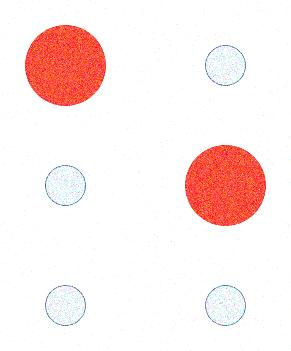E: (18, 18, 273, 335)
